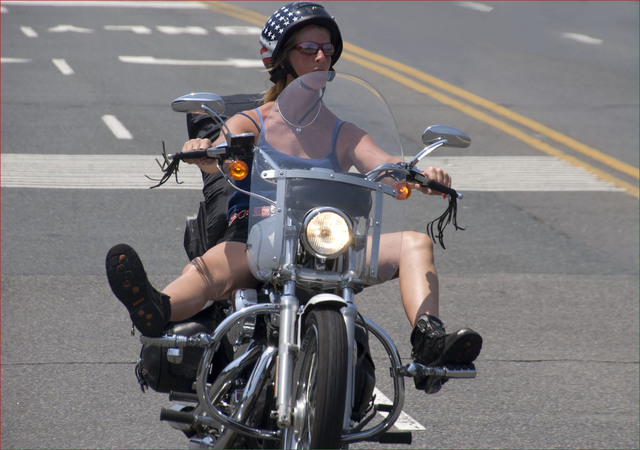helmet: (254, 5, 350, 68)
